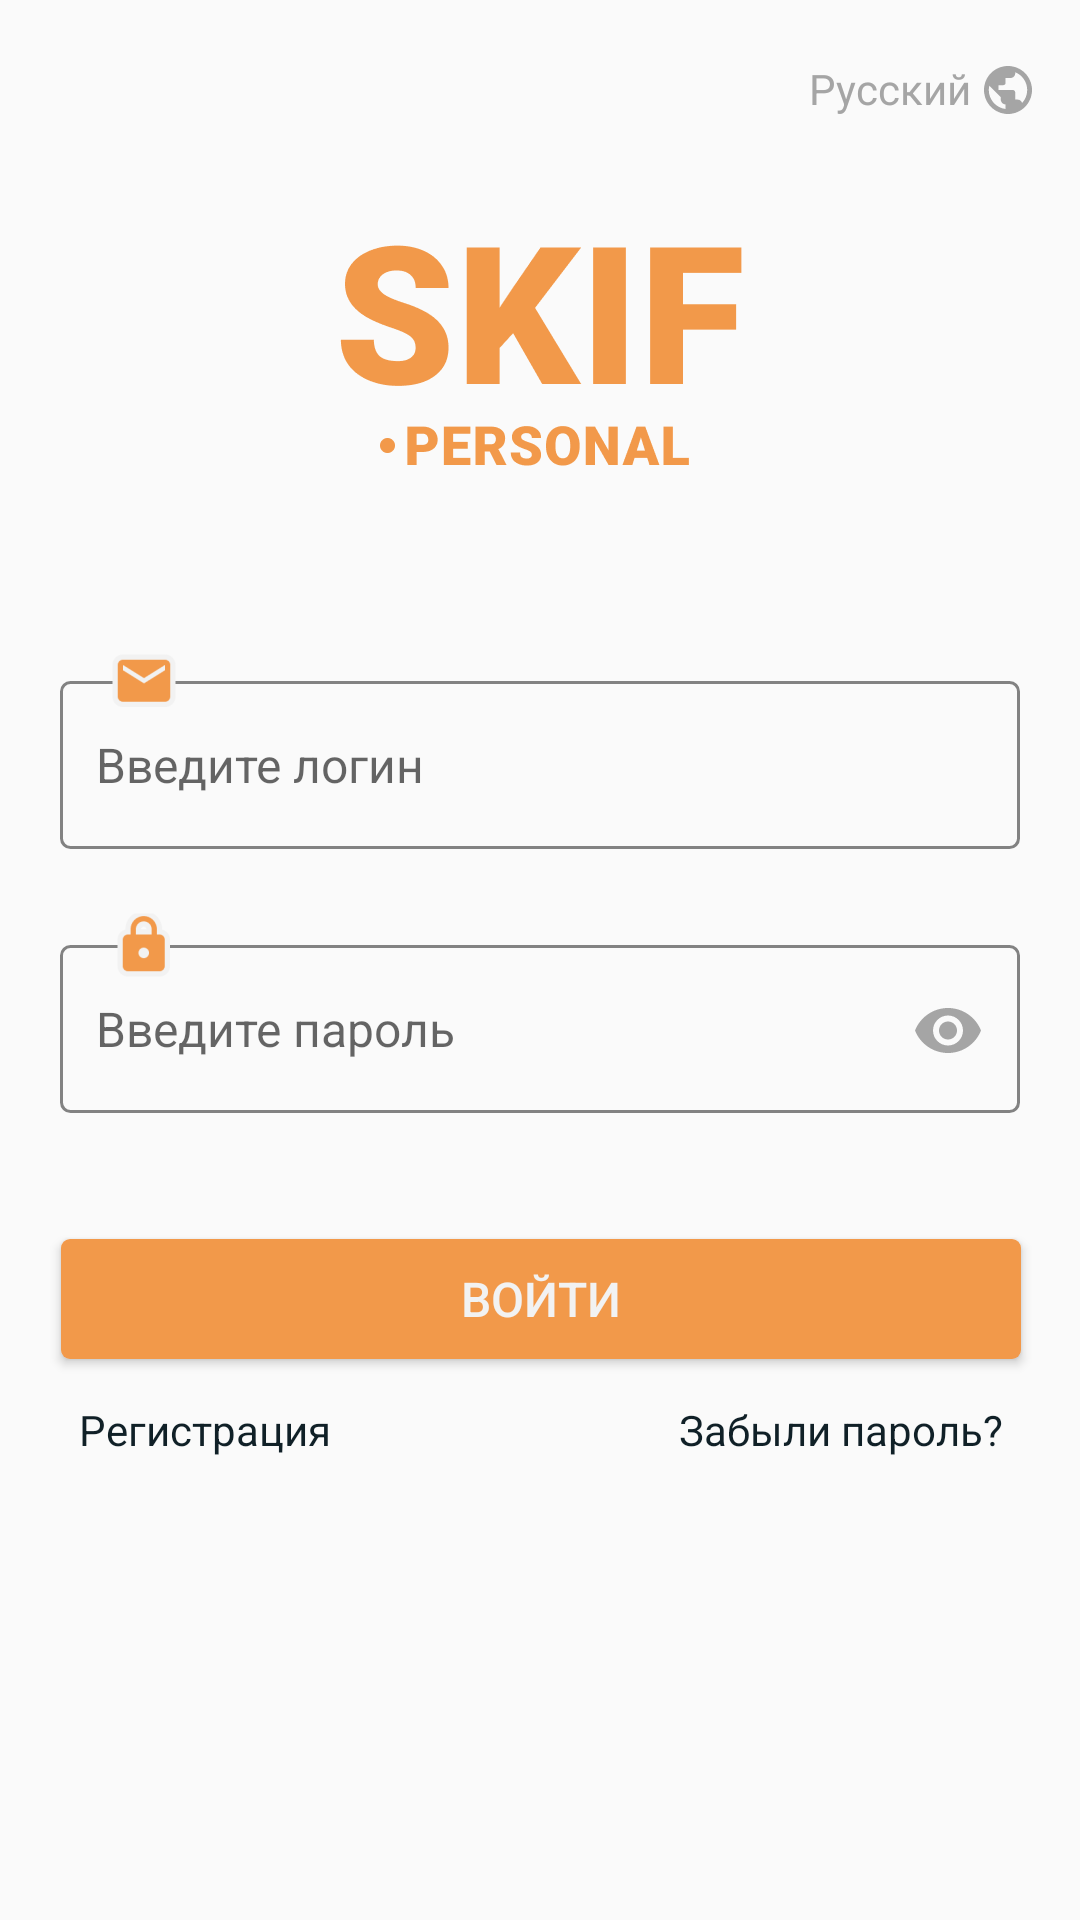

Icon click points for this 1080*1920 phone screenshot, format (x,y):
email: (144,680)
lang: (1008,90)
lock: (143,944)
